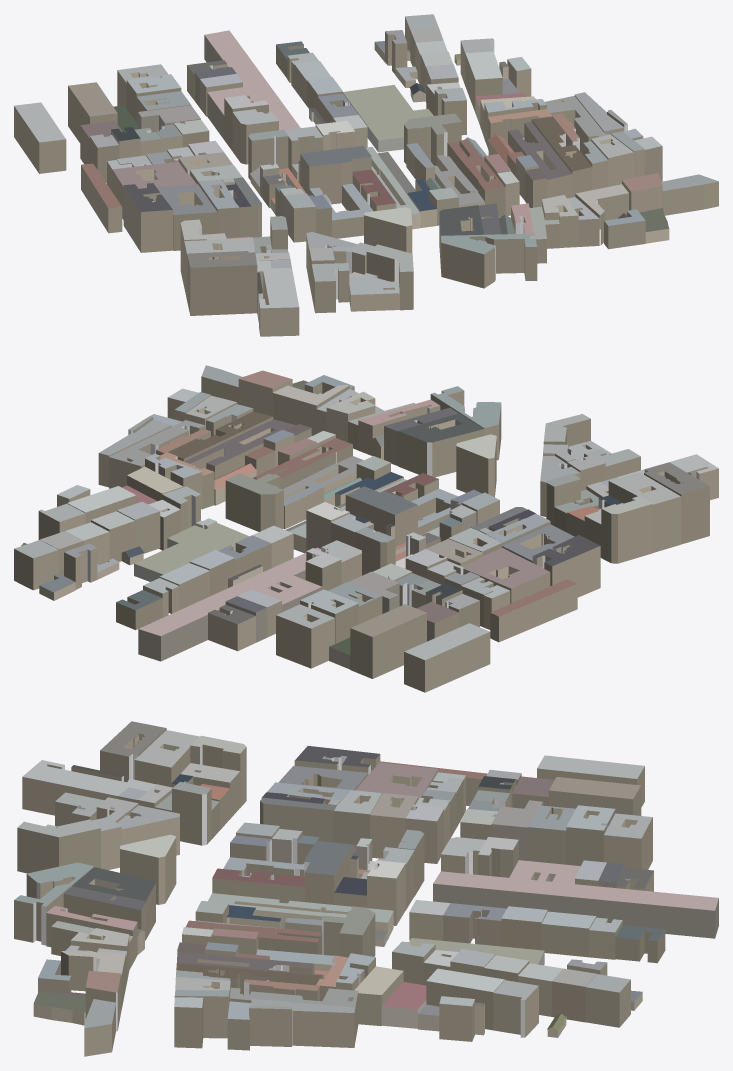
3 views of the same model, one above another, from view 1: azimuth 30°, elevation 25°; view 2: azimuth 150°, elevation 25°; view 3: azimuth 270°, elevation 25° (orthographic). The views are drawn at different scales.
Parts seen in each view (by area): view 1: tuile; view 2: tuile; view 3: tuile.
Part boxes in pixels (bbox=[...]): tuile: bbox=[14, 14, 718, 336]; tuile: bbox=[14, 365, 718, 692]; tuile: bbox=[14, 721, 718, 1056].
Bounding box in the file's own units: 276 × 26.31 × 292.
